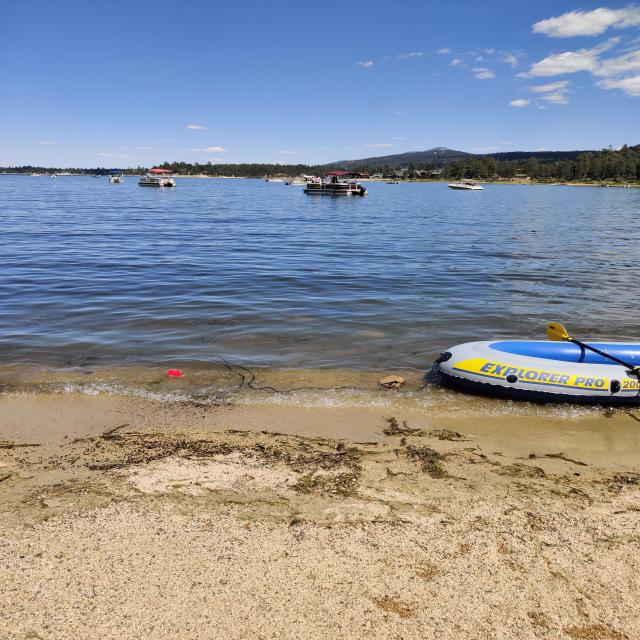litter: (158, 365, 193, 382)
